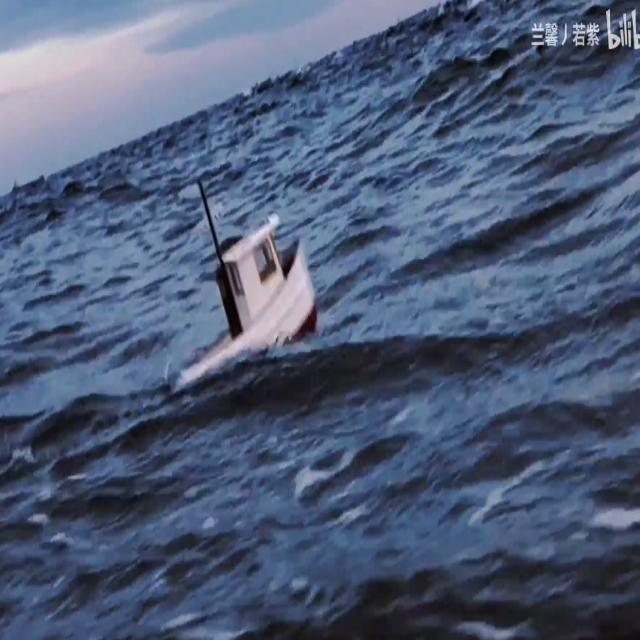houseboat: (166, 180, 310, 392)
